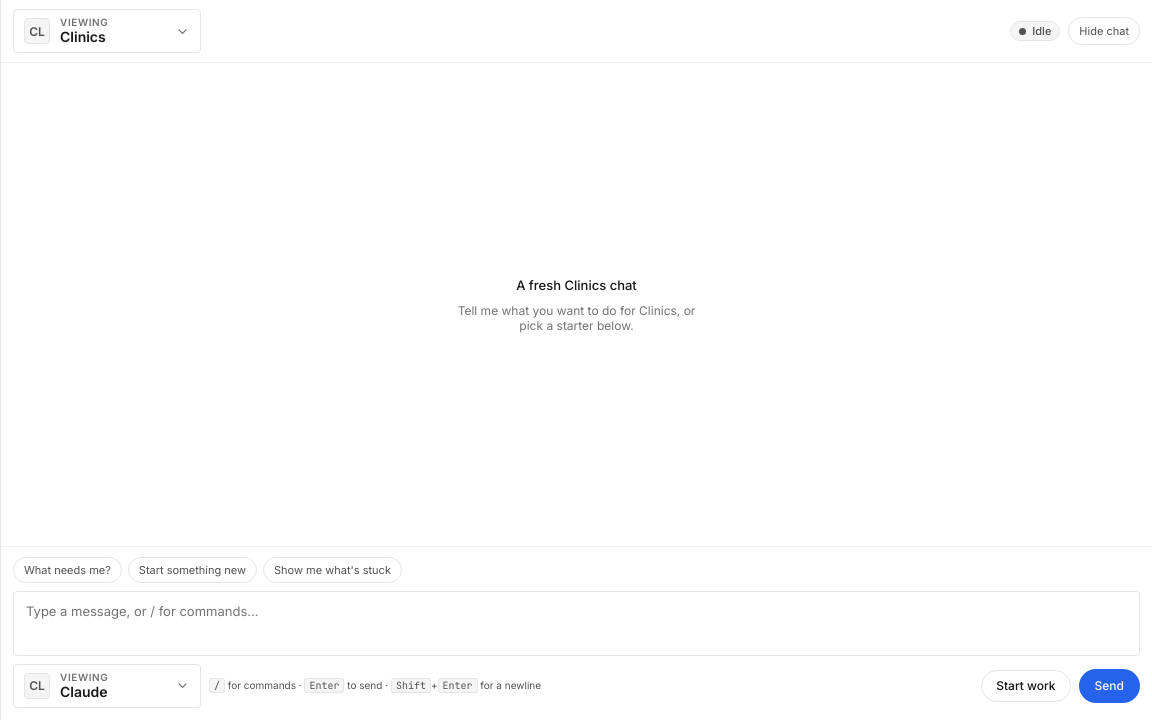
<ProductChatDock> the composer sends a chat message (ADR-001/003) › Send streams a reply for the typed message (distinct from Start work)
Expected: the element with test id "chat-empty" is shown, [458,276,695,332]
Type "hello" into the text box with test id "chat-intent-input" at (576, 621), box [24,600,1129,643]
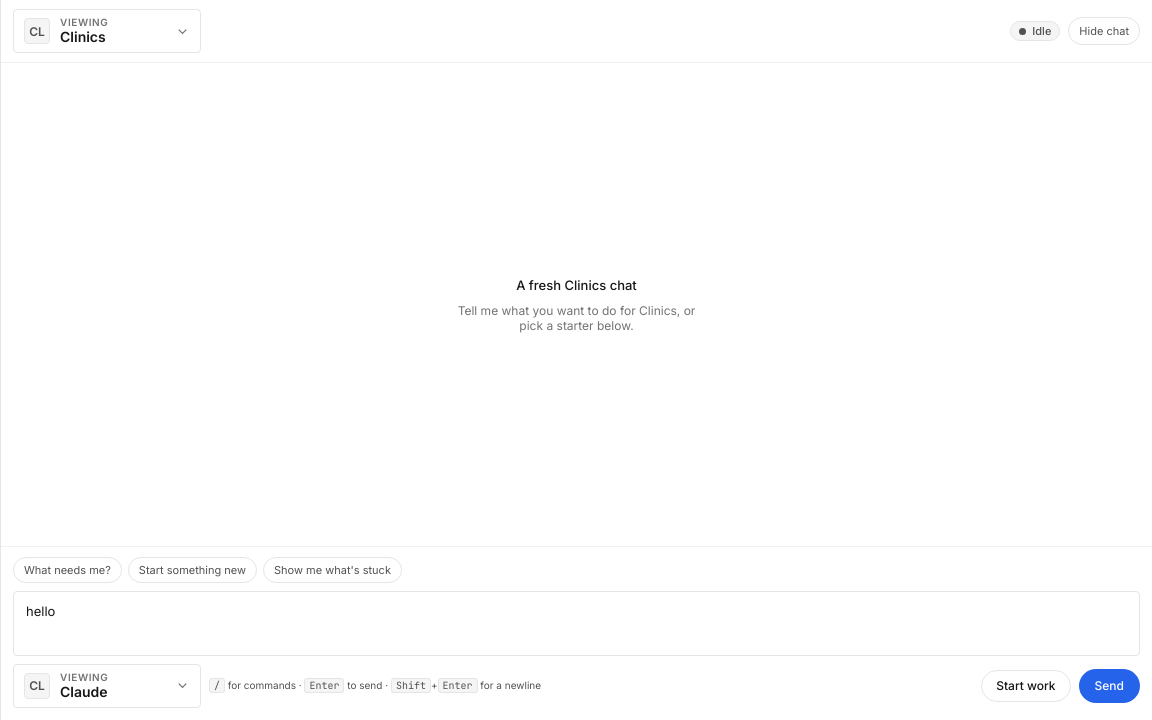
Click the button with test id "chat-send" at (1109, 686), box [1079,669,1140,703]
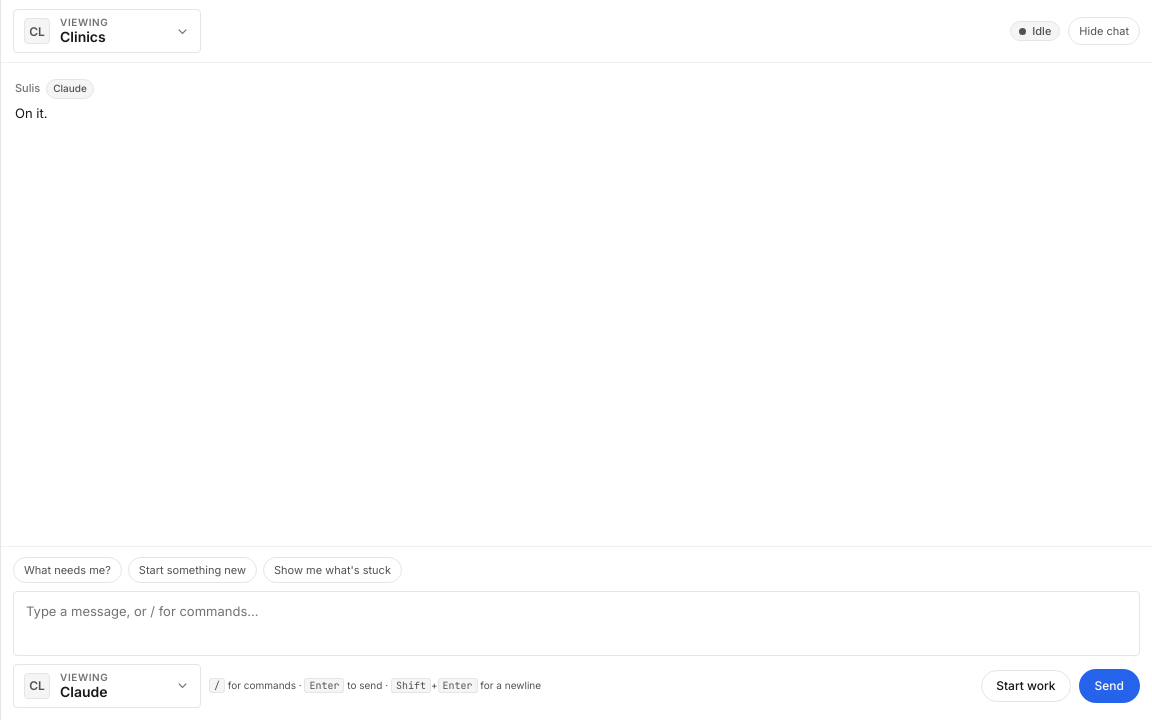
Expected: the text "On it." is shown, [15,105,47,121]
